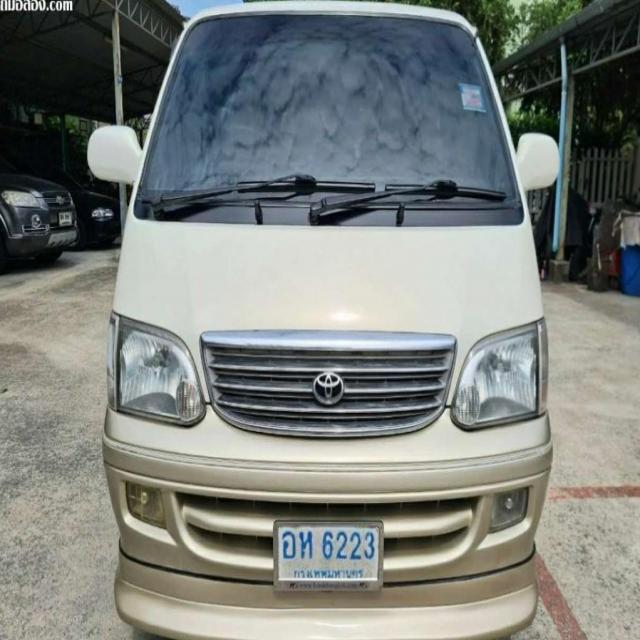license_plate: (272, 515, 385, 595)
